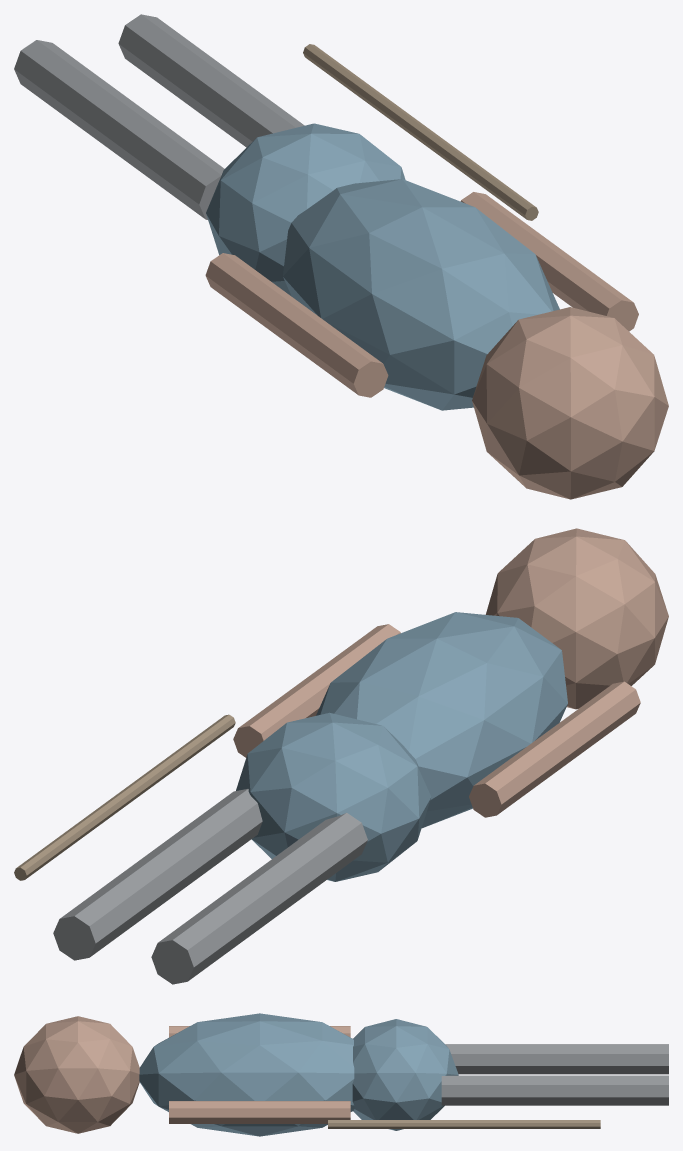
Rendered from older-low.glb.
The picture shows the model from 3 angles, top to bottom: view 1: azimuth 30°, elevation 25°; view 2: azimuth 150°, elevation 25°; view 3: azimuth 270°, elevation 25°; orthographic projection. The views are drawn at different scales.
Visible parts, largest first — view 1: torso, head, pelvis, left_leg, right_leg, left_arm, right_arm, cane; view 2: torso, pelvis, head, left_leg, right_leg, left_arm, right_arm, cane; view 3: torso, head, pelvis, right_leg, left_leg, right_arm, cane, left_arm.
Part boxes in pixels (x1,y1,x2,y2): torso: [283, 179, 559, 410]; head: [472, 307, 668, 499]; pelvis: [206, 123, 405, 296]; left_leg: [14, 40, 224, 219]; right_leg: [118, 14, 304, 147]; left_arm: [205, 253, 388, 397]; right_arm: [460, 192, 638, 331]; cane: [303, 44, 538, 220]; torso: [316, 612, 567, 828]; pelvis: [236, 712, 431, 881]; head: [485, 528, 668, 709]; left_leg: [151, 812, 367, 984]; right_leg: [53, 789, 262, 960]; left_arm: [469, 681, 640, 817]; right_arm: [233, 624, 400, 757]; cane: [14, 714, 235, 880]; torso: [139, 1013, 354, 1136]; head: [14, 1016, 139, 1133]; pelvis: [352, 1019, 458, 1130]; right_leg: [441, 1075, 668, 1105]; left_leg: [445, 1044, 668, 1074]; right_arm: [169, 1101, 350, 1123]; cane: [328, 1120, 600, 1128]; left_arm: [169, 1026, 350, 1037].
Size of the model in its own units: 1.16 by 0.616 by 3.4.
